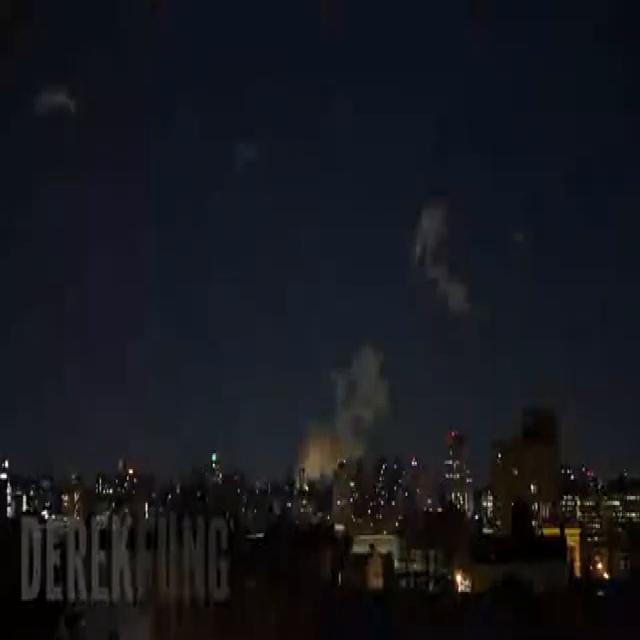smoke: (298, 341, 467, 478)
